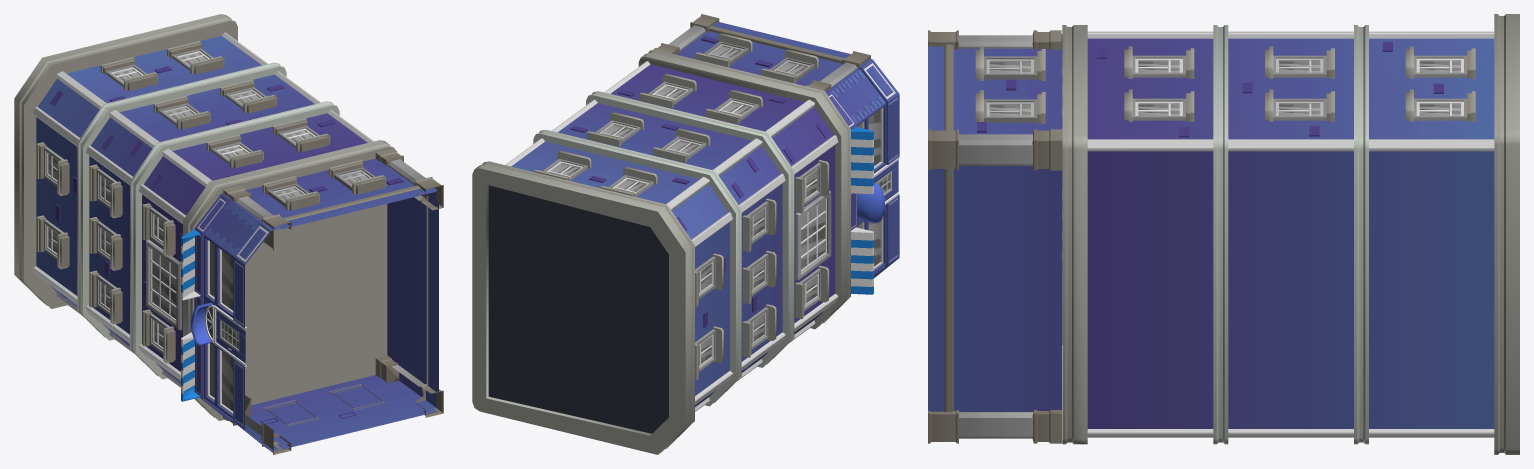
File: Building_3_3_L.fbx
The picture shows the model from 3 angles, left to right: view 1: azimuth 30°, elevation 25°; view 2: azimuth 150°, elevation 25°; view 3: azimuth 270°, elevation 25°; orthographic projection. The views are drawn at different scales.
Parts seen in each view (by area): view 1: Building 3_3_L; view 2: Building 3_3_L; view 3: Building 3_3_L.
Boxes of the visible parts, box(x1,y1,x2,y2) form: Building 3_3_L: box(14, 14, 443, 454); Building 3_3_L: box(472, 14, 899, 454); Building 3_3_L: box(928, 14, 1519, 454).
Size of the model in its own units: 808 by 837 by 1383.
